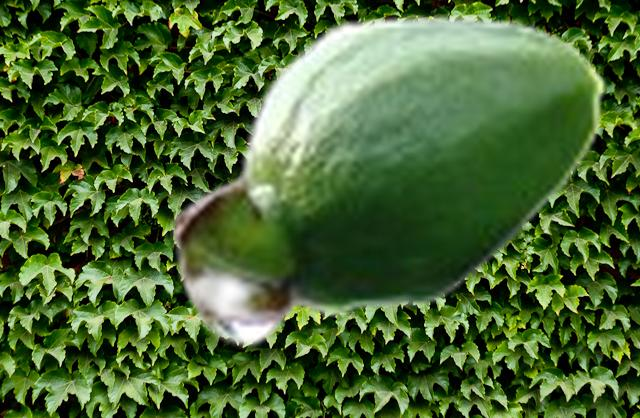guava: (170, 12, 607, 348)
